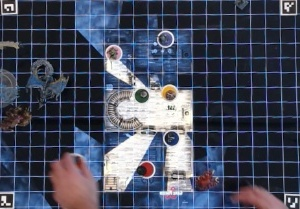blue: (164, 128, 180, 148)
green: (133, 86, 151, 103)
pink: (103, 43, 124, 64)
red: (137, 158, 157, 178)
violet: (156, 31, 176, 49)
yellow: (161, 81, 180, 101)
